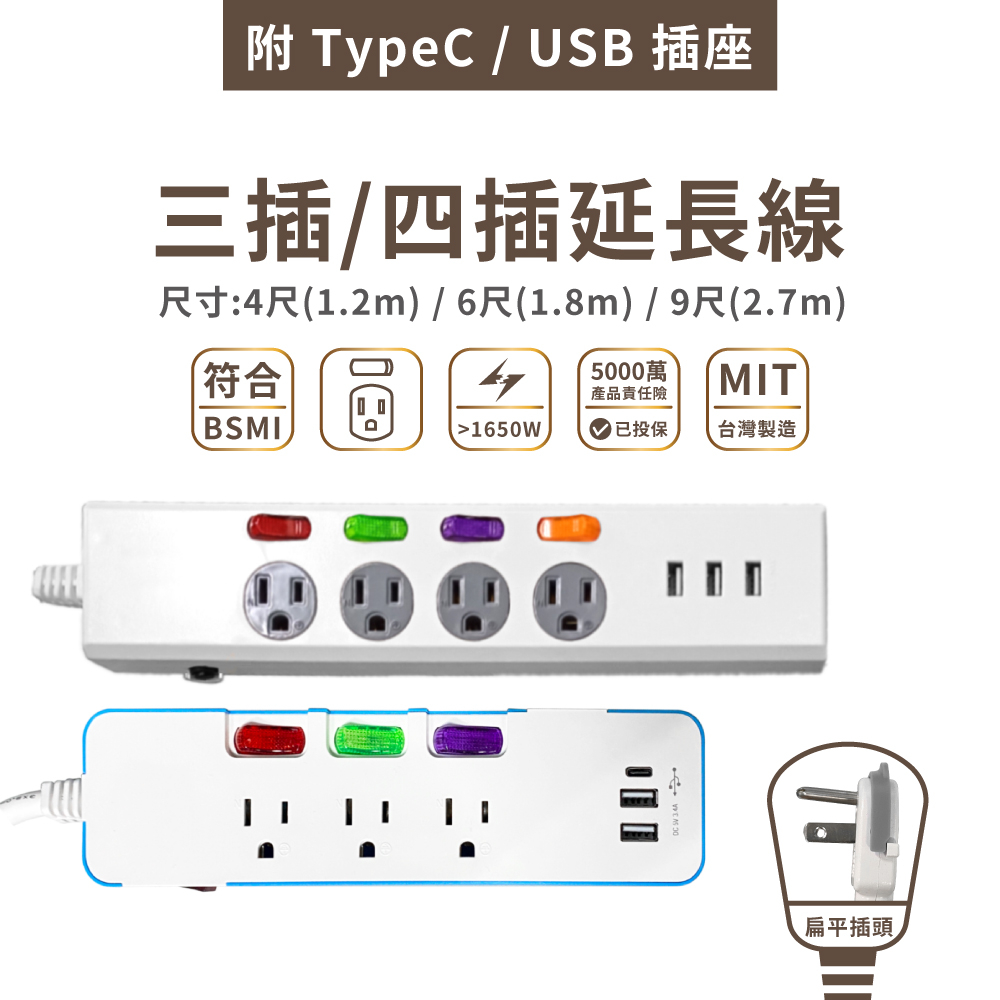socket: (33, 501, 834, 678), (42, 709, 706, 893)
